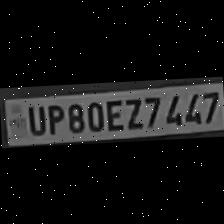0: (82, 98, 104, 132)
4: (159, 90, 181, 126), (180, 89, 200, 125)
7: (198, 88, 220, 124), (140, 92, 160, 128)
8: (63, 100, 85, 134)
E: (102, 96, 124, 132)
P: (44, 101, 64, 135)
U: (23, 102, 46, 136)
Z: (122, 94, 142, 130)
